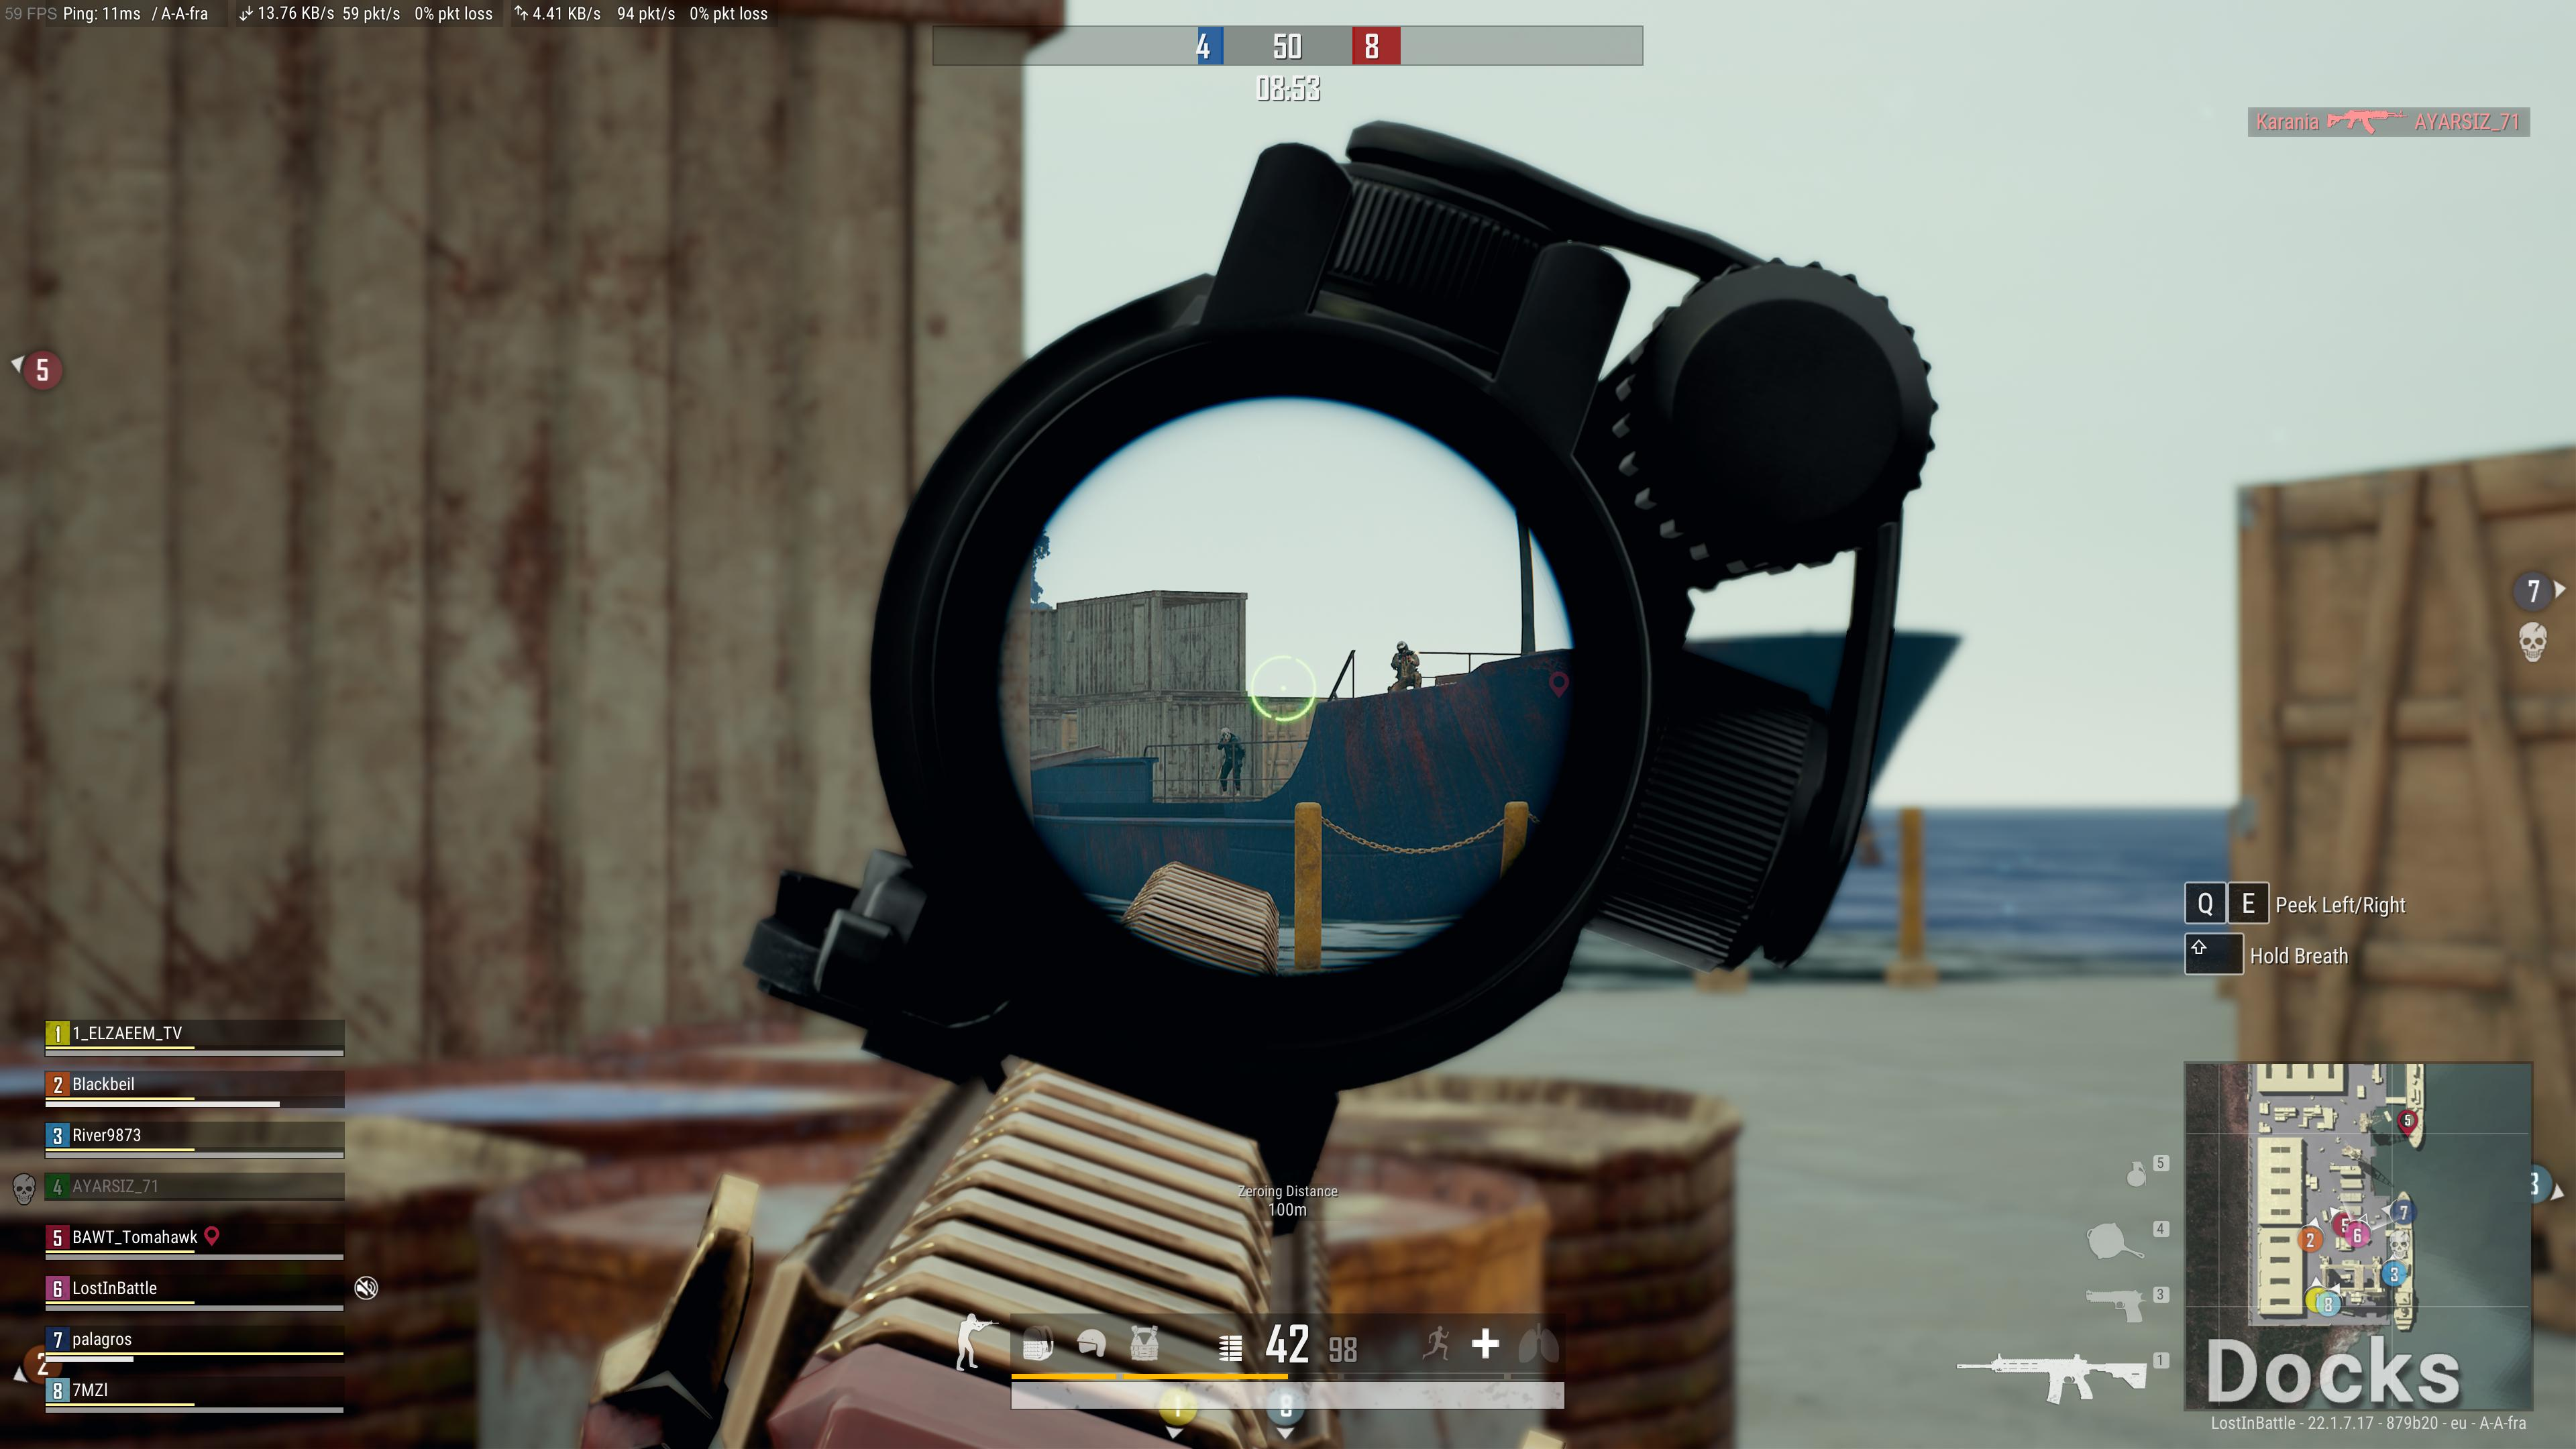enemy: (1217, 725, 1246, 796), (1387, 640, 1421, 688)
enemy_head: (1396, 640, 1410, 656), (1219, 727, 1231, 741)
